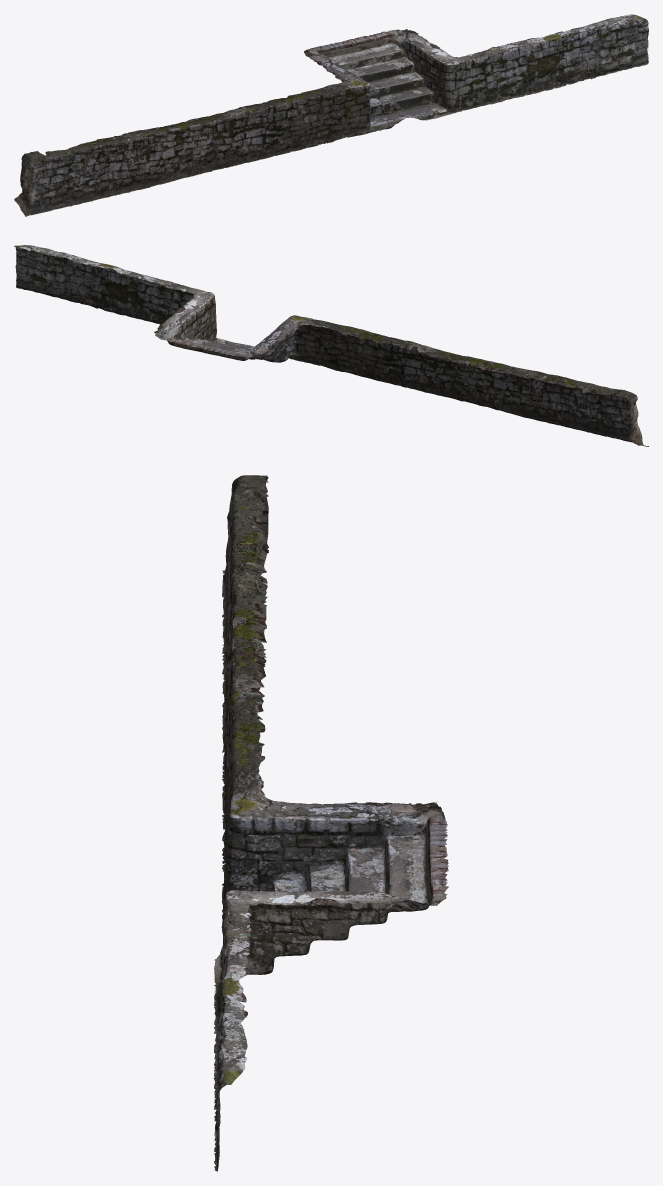
File: wall.glb
3 renders of one model, top to bottom at view 1: azimuth 30°, elevation 25°; view 2: azimuth 150°, elevation 25°; view 3: azimuth 270°, elevation 25°, orthographic. The views are drawn at different scales.
Visible parts, largest first — view 1: Retopo_texturedMesh.002_0; view 2: Retopo_texturedMesh.002_0; view 3: Retopo_texturedMesh.002_0.
Boxes of the visible parts, bbox=[...] form: Retopo_texturedMesh.002_0: bbox=[14, 14, 648, 216]; Retopo_texturedMesh.002_0: bbox=[14, 245, 648, 446]; Retopo_texturedMesh.002_0: bbox=[214, 475, 448, 1171].
Bounding box in the file's own units: 13.07 × 1.13 × 2.14.
1 material, 1 textured.
